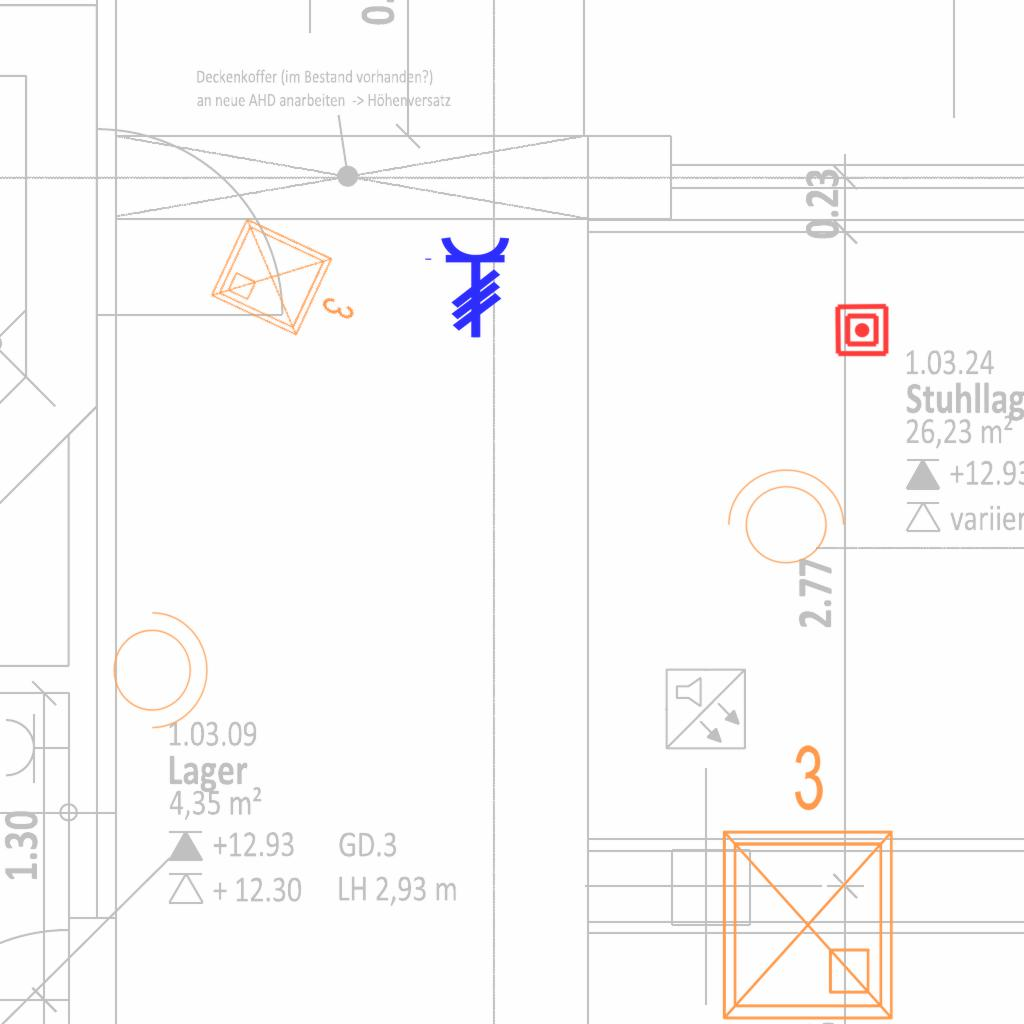CEE_Drehstrom_Steckdose_16_32_A: (422, 235, 512, 339)
Einbaudownlights_LED_Konferenzraeume: (700, 734, 908, 1024), (201, 205, 381, 363)
NAM-Nichtautomatischer_Melder: (834, 302, 890, 358)
Scheinwerfer_fuer_Alarmbeleuchtung: (717, 464, 849, 576), (101, 601, 213, 733)
